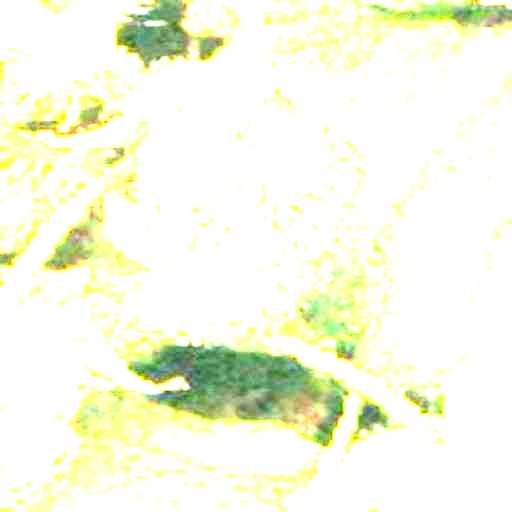Gray Mold: (136, 88, 369, 343)
